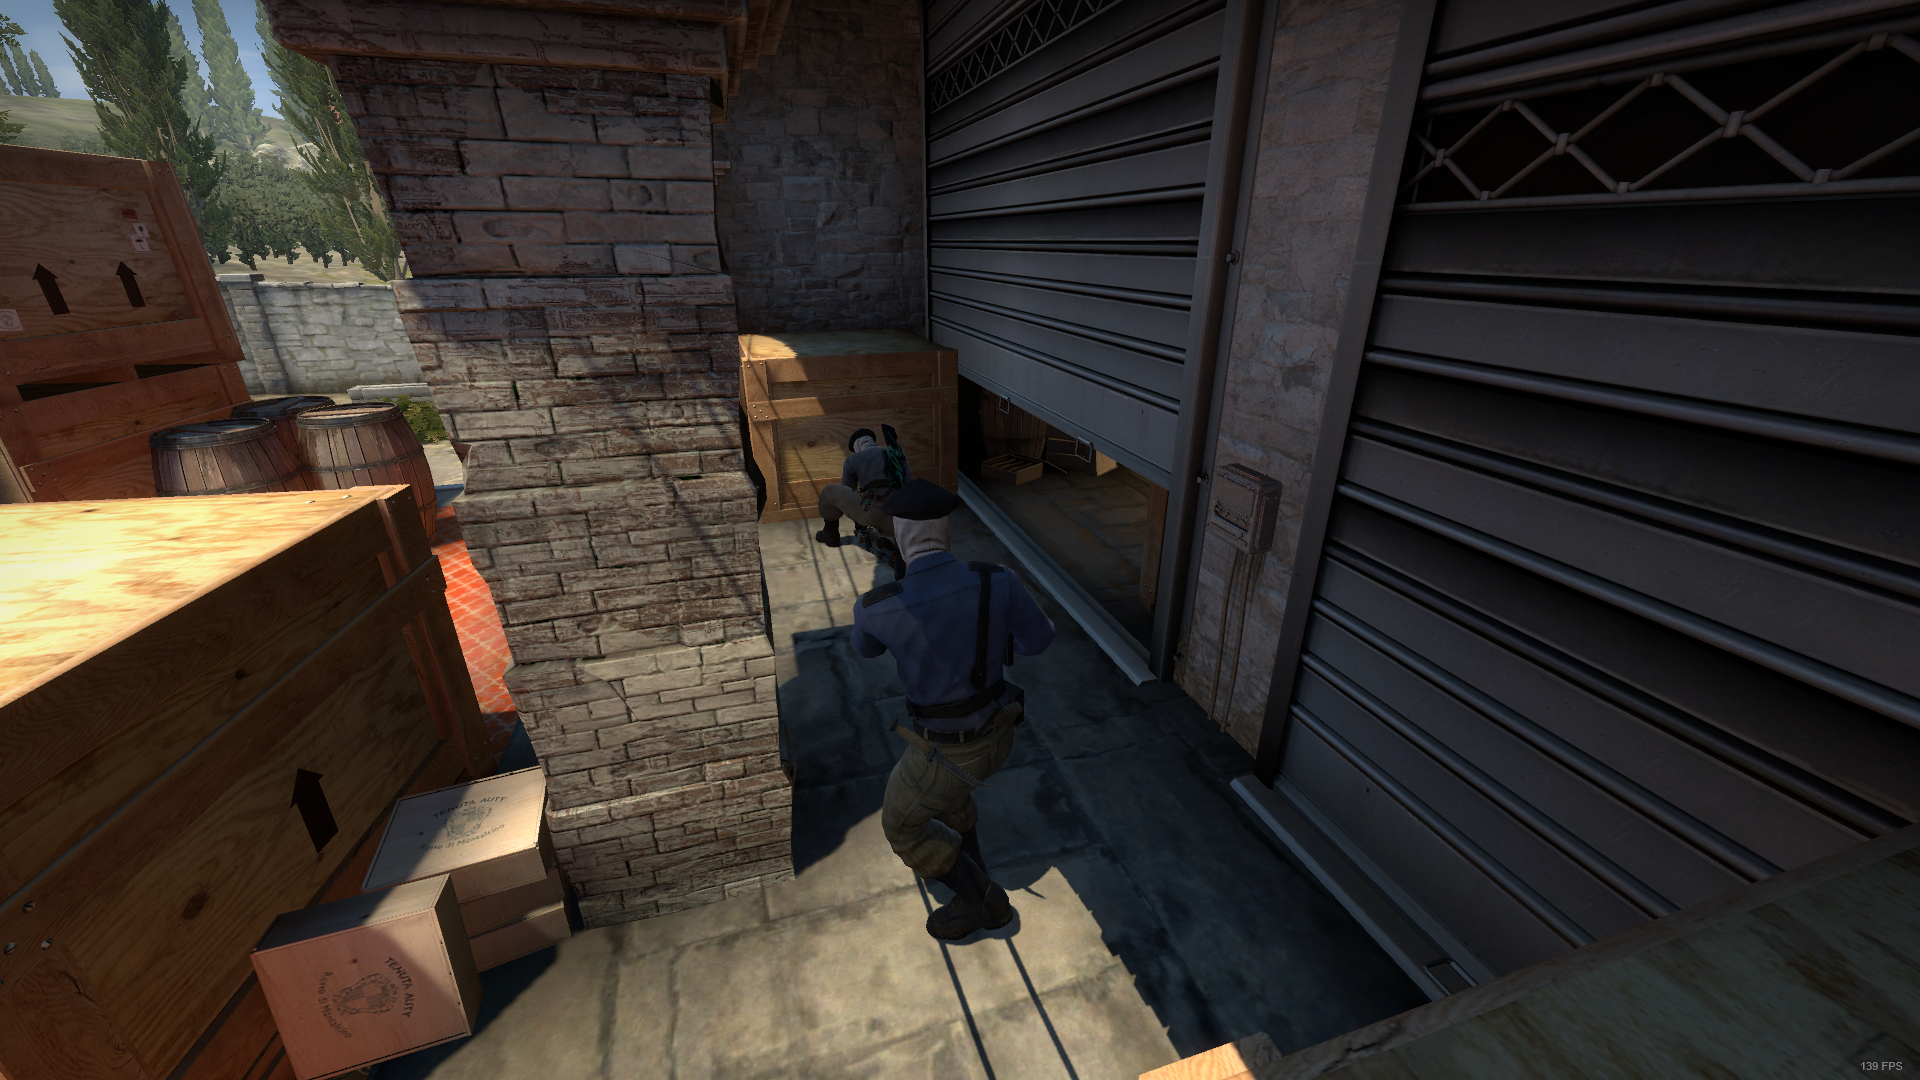t: (849, 489, 1072, 951), (808, 427, 895, 562)
